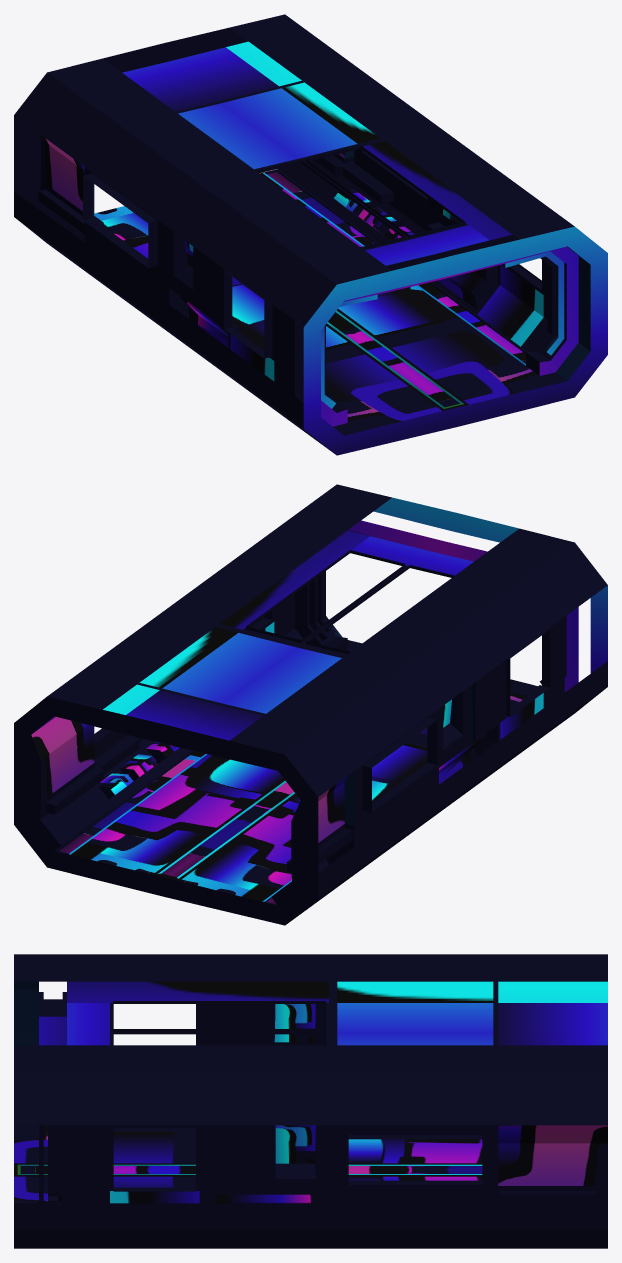
The model's file is cooridor.fbx.
3 renders of one model, top to bottom at view 1: azimuth 30°, elevation 25°; view 2: azimuth 150°, elevation 25°; view 3: azimuth 270°, elevation 25°, orthographic. The views are drawn at different scales.
Visible parts, largest first — view 1: Cube.004; view 2: Cube.004; view 3: Cube.004.
Part boxes in pixels (left/top/right/bottom): Cube.004: left=14, top=14, right=607, bottom=455; Cube.004: left=14, top=484, right=607, bottom=925; Cube.004: left=14, top=954, right=607, bottom=1248.
Size of the model in its own units: 453 by 246 by 748.
